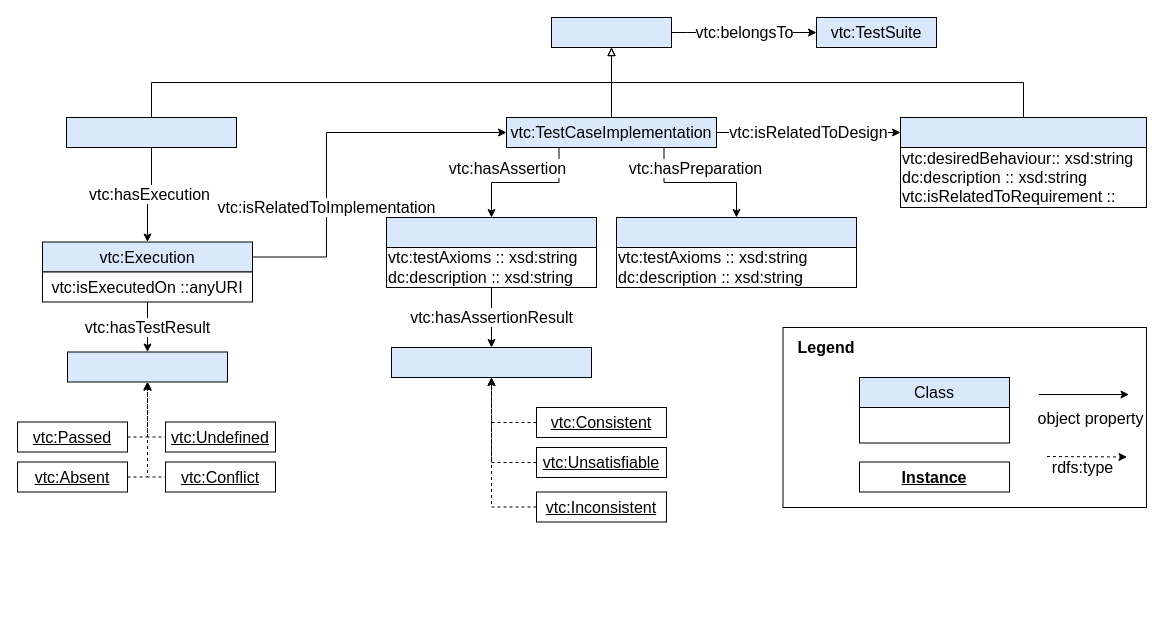
Some shapes in this 1164 by 633 pixel diagram are drawn without their labels. Here are the shapes that lost their labels. From the top down, the box of each, then its label:
(550, 16, 672, 48): vtc:TestCase
(66, 116, 236, 148): vtc:TestCaseResult
(900, 116, 1146, 148): vtc:TestCaseDesign
(386, 216, 596, 248): vtc:TestAssertion
(616, 216, 856, 248): vtc:TestPreparation
(66, 351, 228, 382): vtc:TestResult
(390, 346, 592, 378): vtc:TestAssertionResult
(858, 404, 1010, 443): Datatype property
